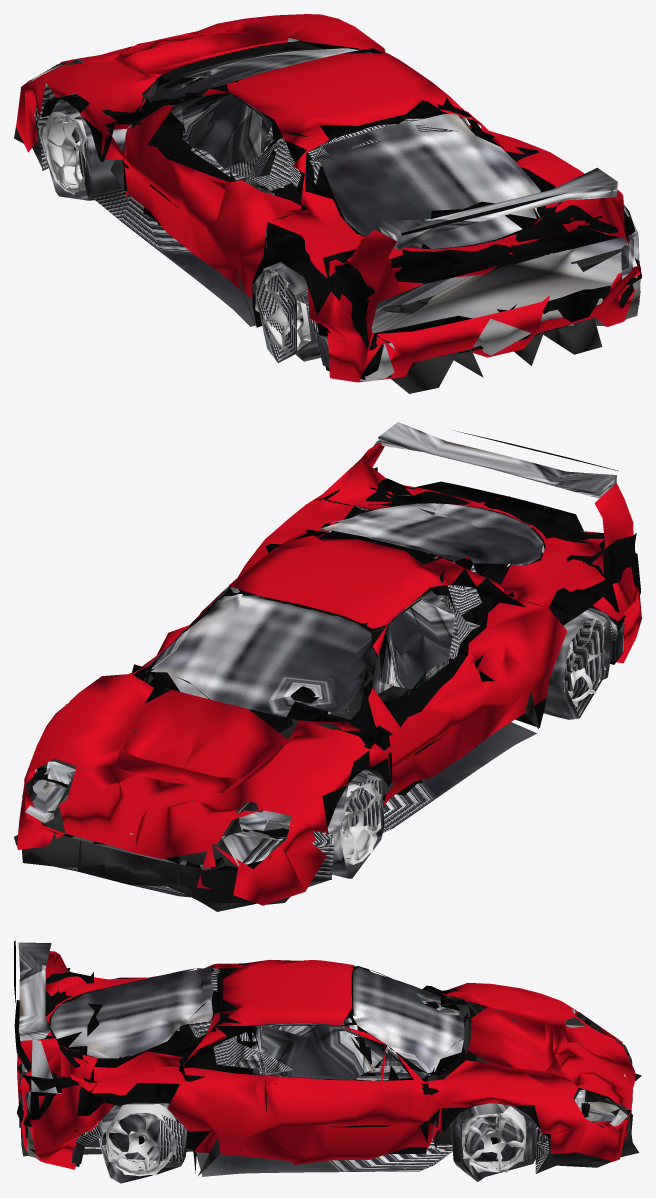
The model's file is ferrari_f40_modified.glb.
3 renders of one model, top to bottom at view 1: azimuth 30°, elevation 25°; view 2: azimuth 150°, elevation 25°; view 3: azimuth 270°, elevation 25°, orthographic. The views are drawn at different scales.
Visible parts, largest first — view 1: body; view 2: body; view 3: body.
Boxes of the visible parts, bbox=[...] form: body: bbox=[14, 14, 641, 393]; body: bbox=[14, 422, 641, 911]; body: bbox=[14, 940, 641, 1183].
Bounding box in the file's own units: 2.01 × 1.11 × 4.37.
12 materials, 2 textured.
